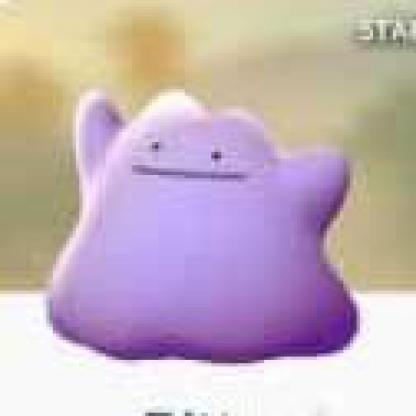Ditto: (1, 1, 414, 414)
